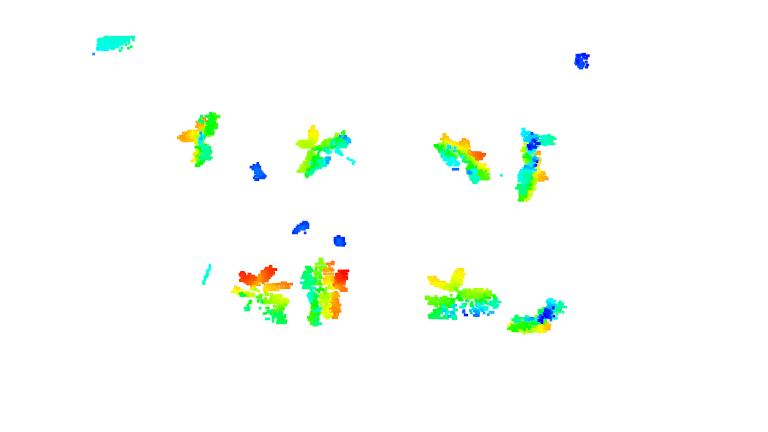chickpea: (423, 266, 502, 324), (232, 263, 293, 328), (512, 126, 560, 205), (288, 123, 356, 178), (298, 256, 349, 325), (432, 130, 491, 186), (177, 109, 221, 171), (505, 297, 570, 335)
